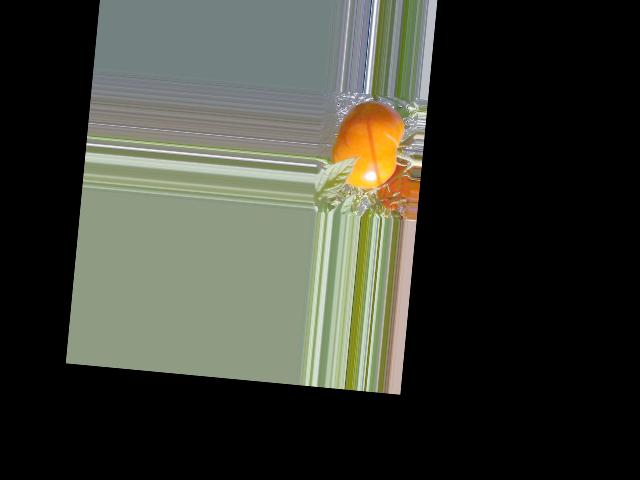tomato: (329, 98, 406, 192)
